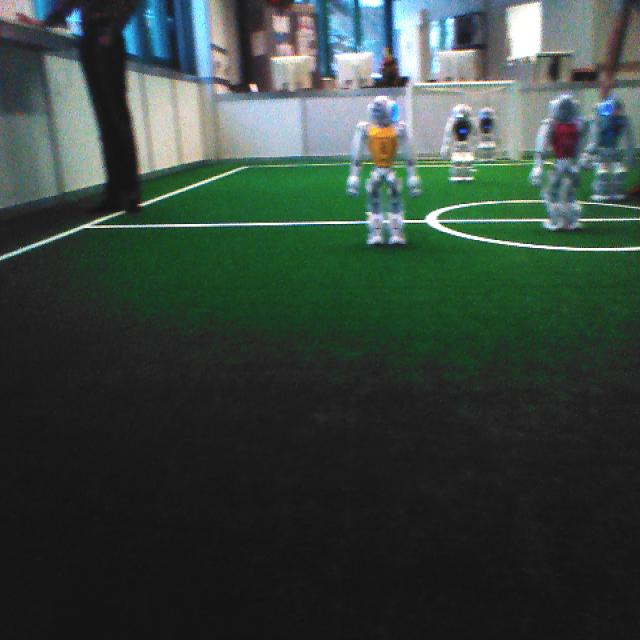goalpost: (508, 75, 522, 161), (404, 77, 414, 140)
